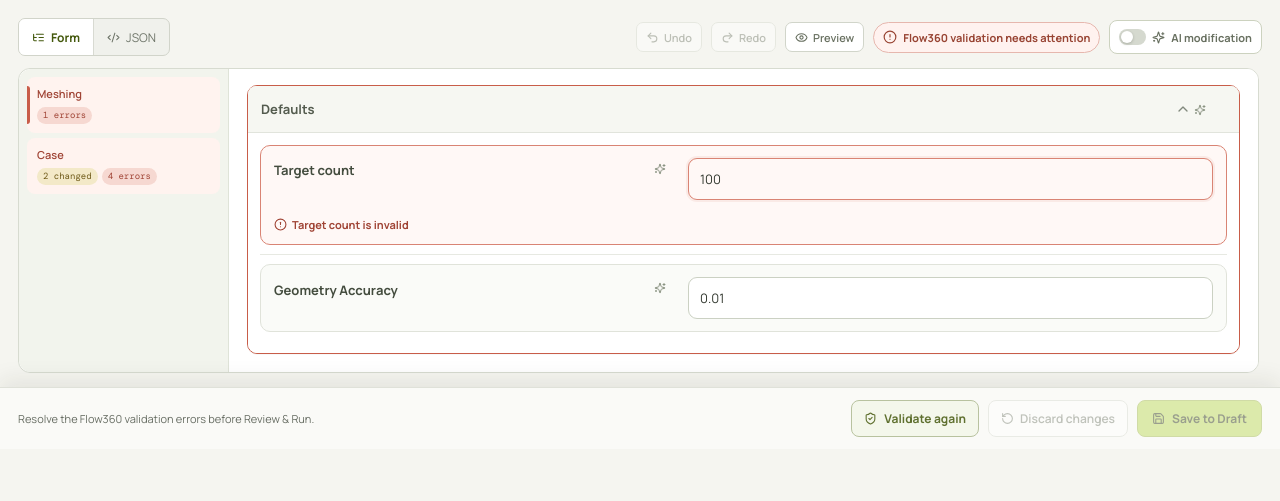
Scenario: Draft parameter validation navigation › records an explicit explanation without changing or revalidating the candidate
The width and height of the screenshot is (1280, 501).
Click the button named "Explain Defaults with AI" at (1200, 110), box [1190,100,1210,120]
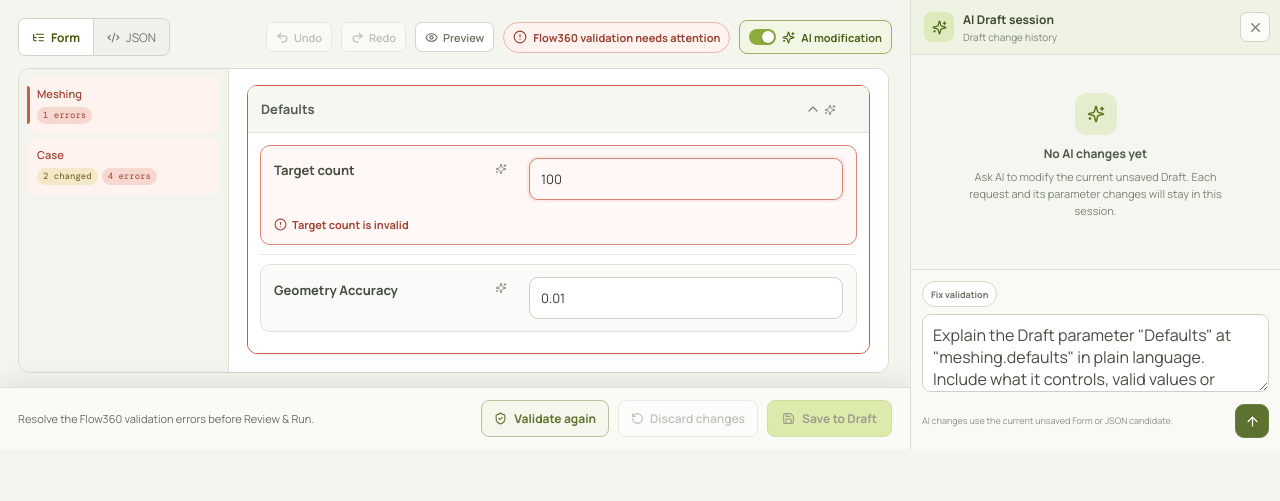
Submit the form with class "draft-ai-composer", box [911,269,1279,449]
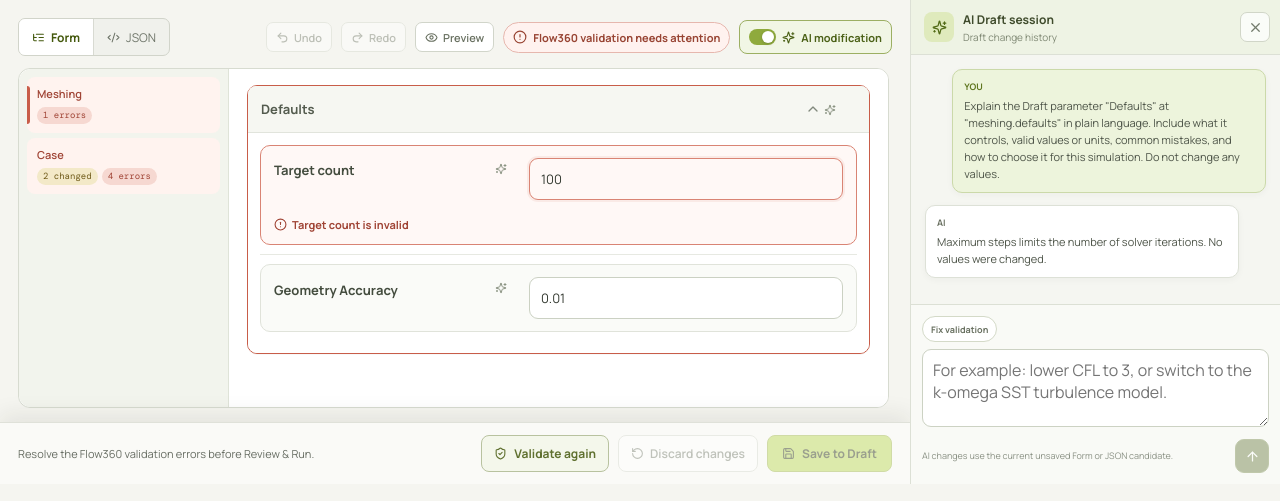
Expected: the button with class "draft-parameter-save" is disabled, [767,435,892,472]
Result: the element with class "assistant" shows "No values were changed." at [937,234,1222,266]
